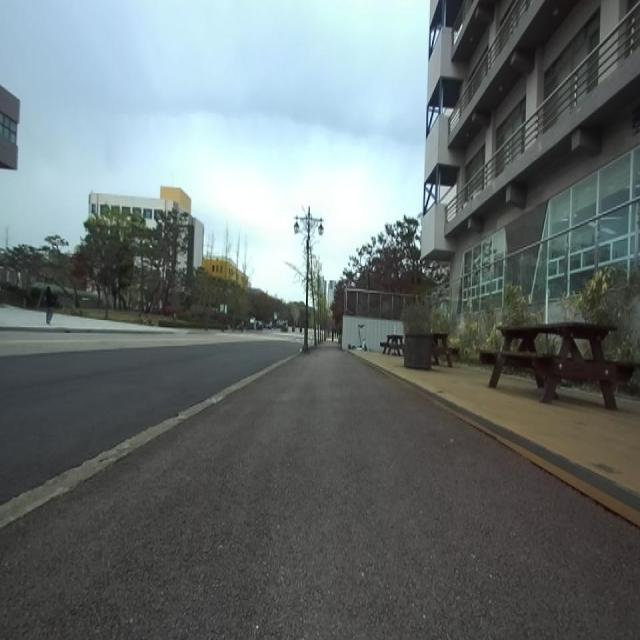sidewalk: (0, 345, 640, 639), (0, 355, 295, 528)
